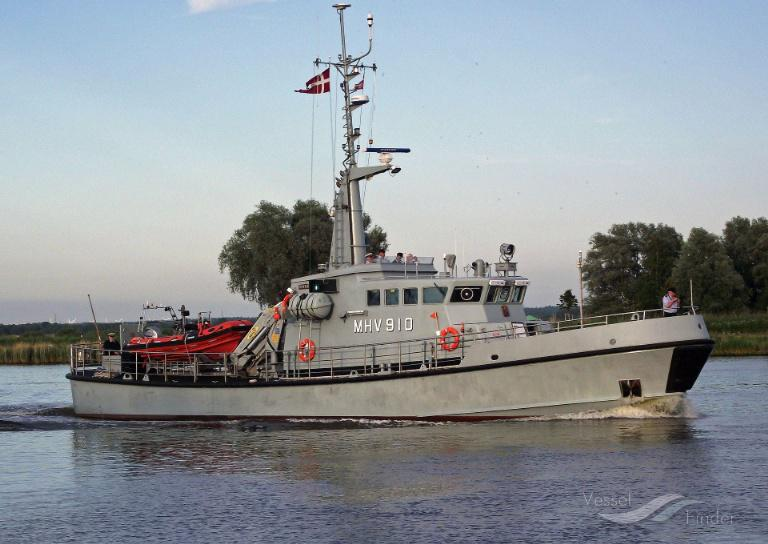OCR: (347, 312, 415, 340)
